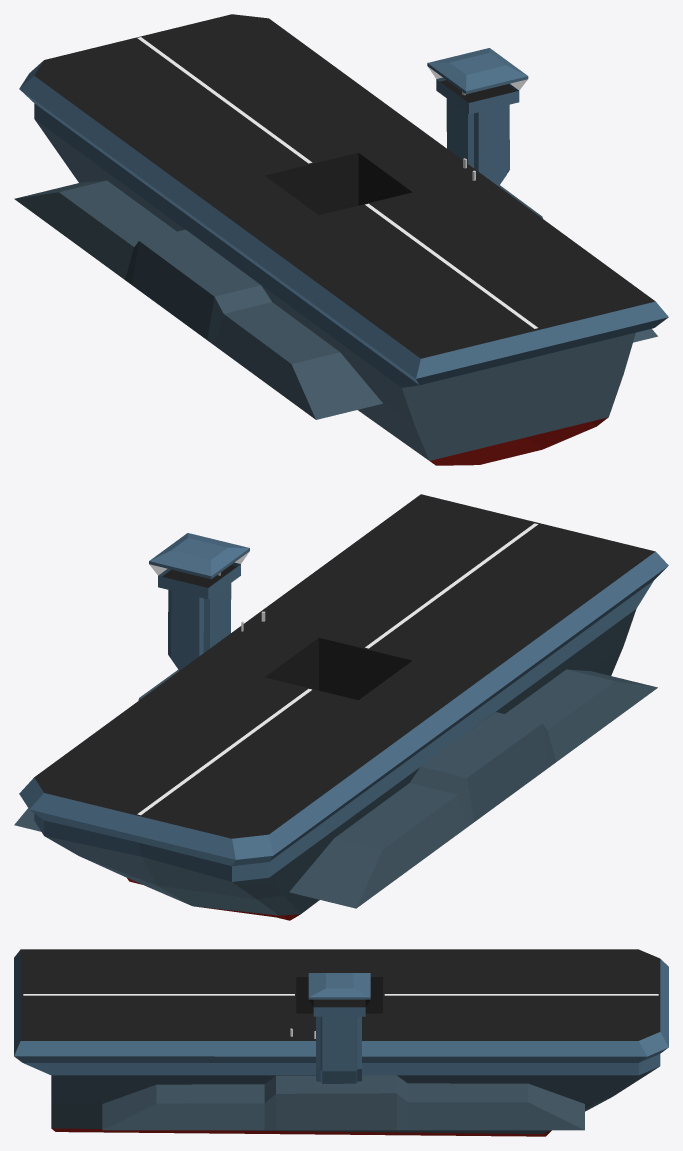
Rendered from Land carrier NEW.glb.
3 renders of one model, top to bottom at view 1: azimuth 30°, elevation 25°; view 2: azimuth 150°, elevation 25°; view 3: azimuth 270°, elevation 25°, orthographic. The views are drawn at different scales.
Visible parts, largest first — view 1: Person.001, Plane, Plane.001; view 2: Person.001, Plane, Plane.001; view 3: Person.001, Plane, Plane.001, Cube.001.
Boxes of the visible parts, left/top/right/bottom form: Person.001: left=14, top=14, right=668, bottom=465; Plane: left=137, top=37, right=312, bottom=163; Plane.001: left=365, top=203, right=537, bottom=328; Person.001: left=14, top=494, right=668, bottom=920; Plane: left=137, top=688, right=311, bottom=815; Plane.001: left=365, top=523, right=538, bottom=648; Person.001: left=14, top=949, right=668, bottom=1136; Plane: left=384, top=994, right=658, bottom=995; Plane.001: left=23, top=994, right=294, bottom=995; Cube.001: left=313, top=999, right=365, bottom=1007.
Bounding box in the file's own units: 72.88 × 48.05 × 151.
